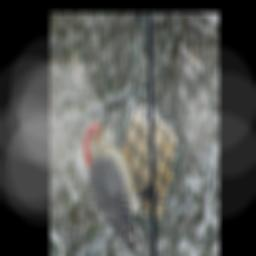Woodpecker: (83, 115, 153, 252)
